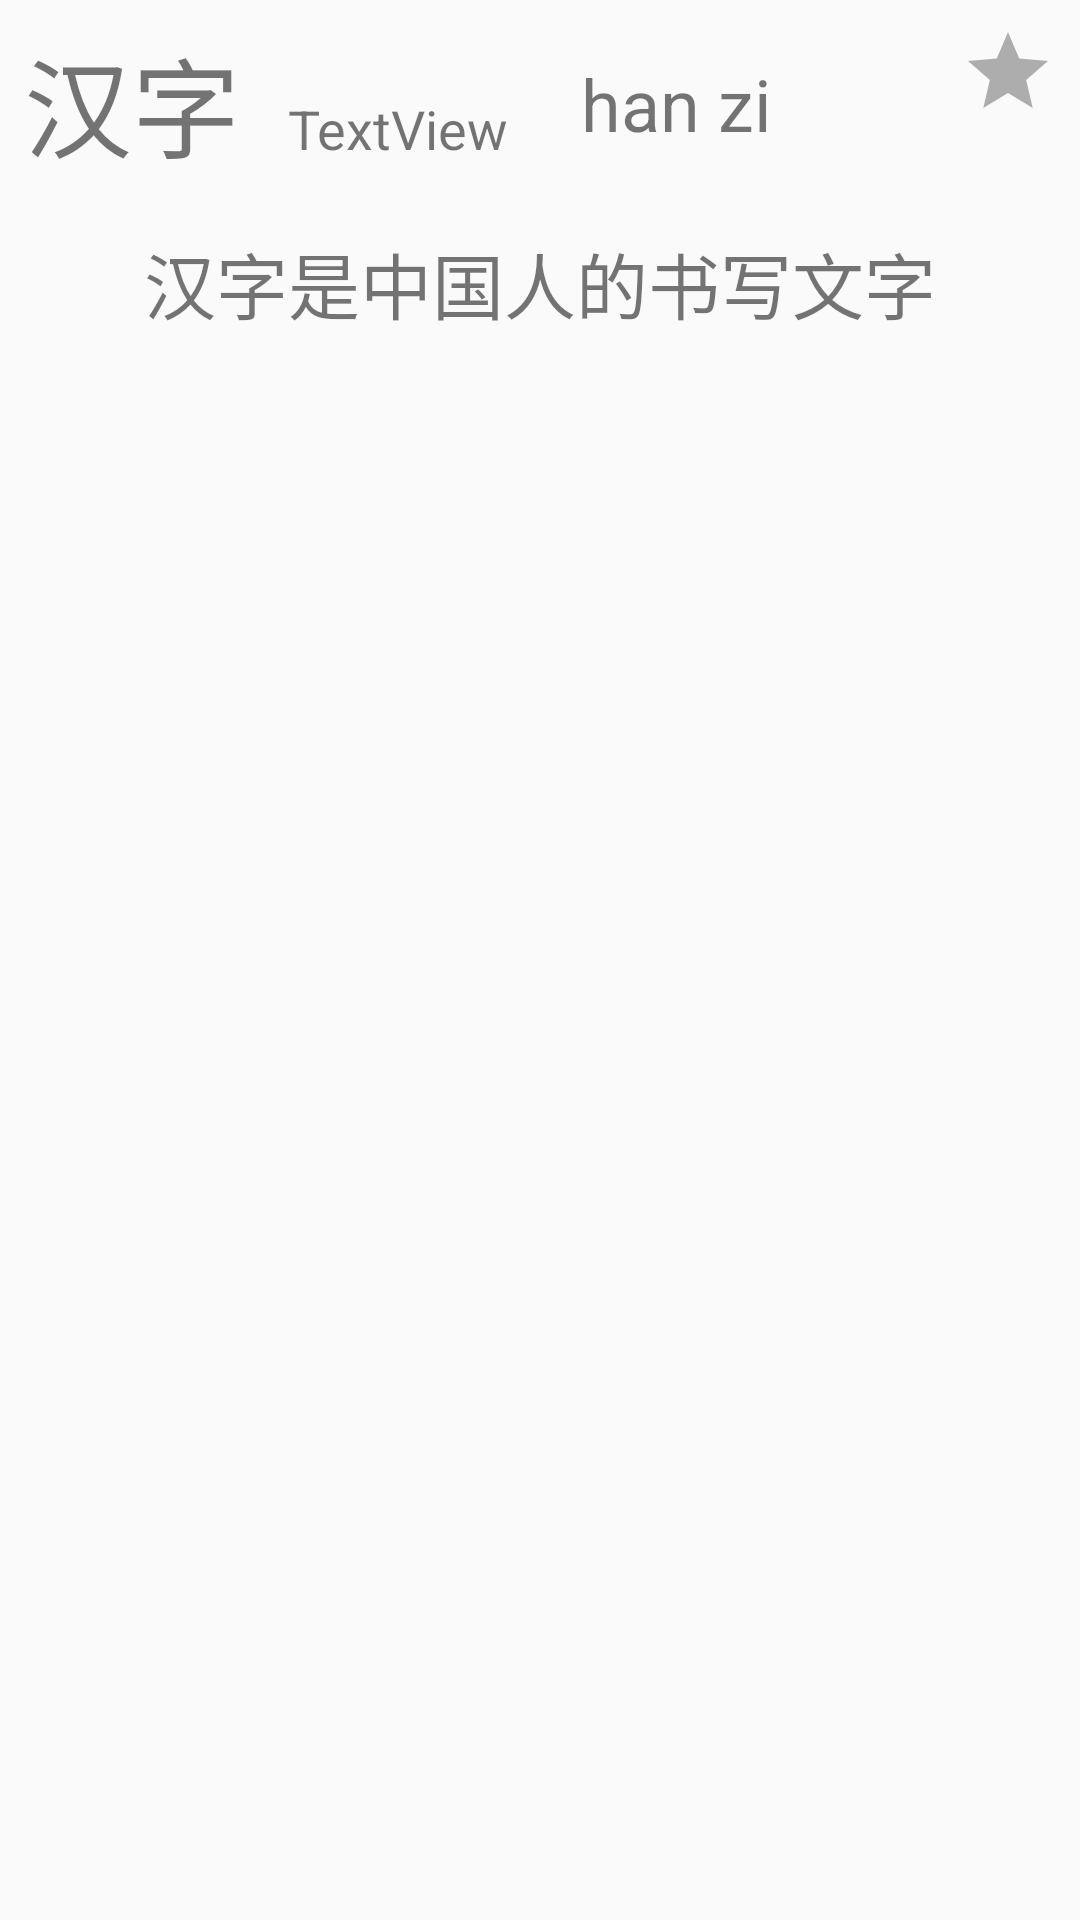

Icon click points for this 1080x1920 phone screenshot, format (x,y):
star: (1008,70)
